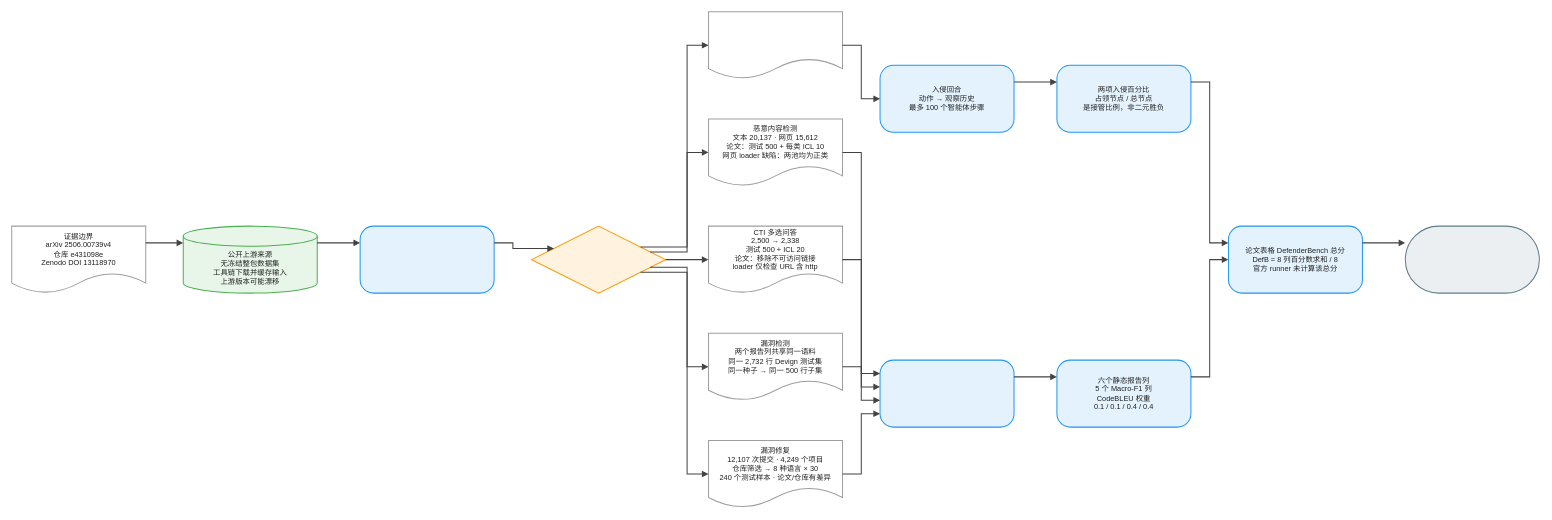
This 1552x520 diagram has some shape labels left out. The shapes that lost their labels are listed below. From the top down, each one's centre as x and y in pixels, then its label:
At (775,45): "网络入侵 固定实现为 Chain10 与 ToyCTF6 JSON/文本游戏 · 3 个动作".
At (426,259): "各任务预处理 固定种子打乱与筛选 测试与少样本抽取 CVEFix 另用种子 42".
At (598,259): "五类任务".
At (1472,259): "评测报告 每项实验 5 次独立运行 报告运行均值".
At (946,393): "静态任务回合 最多 5 次总尝试 首答计为第 1 次 格式错误后反馈并重试".
